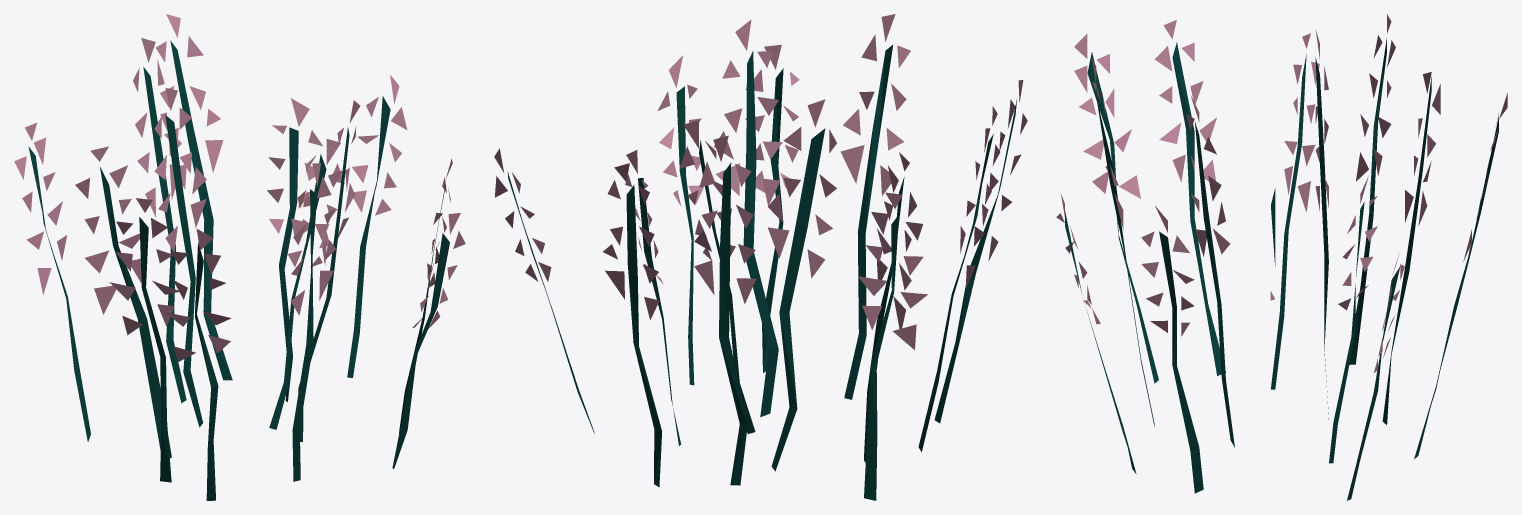
The model's file is obj_heather_3_0.obj.
3 renders of one model, left to right at view 1: azimuth 30°, elevation 25°; view 2: azimuth 150°, elevation 25°; view 3: azimuth 270°, elevation 25°, orthographic. The views are drawn at different scales.
Bounding box in the file's own units: 0.8438 × 0.7188 × 0.7891.
